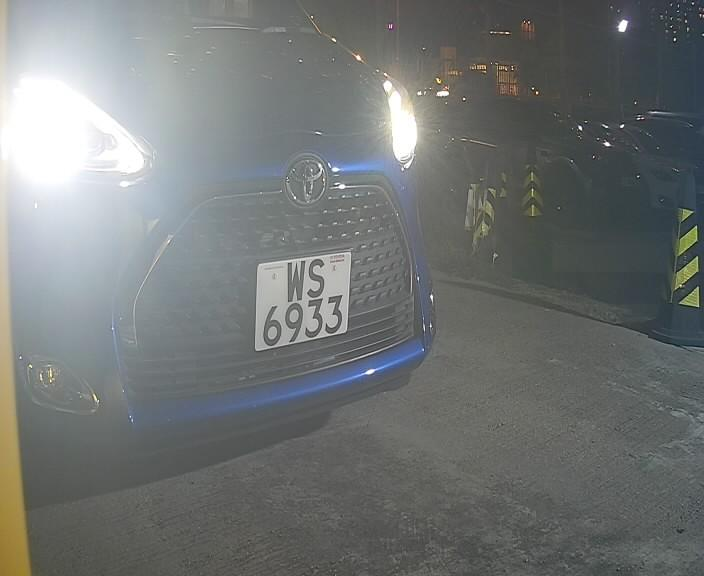Car: (1, 11, 510, 502)
License Plate: (239, 235, 368, 361)
